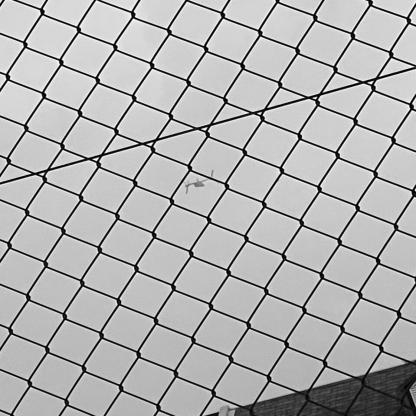V22: (181, 171, 221, 196)
